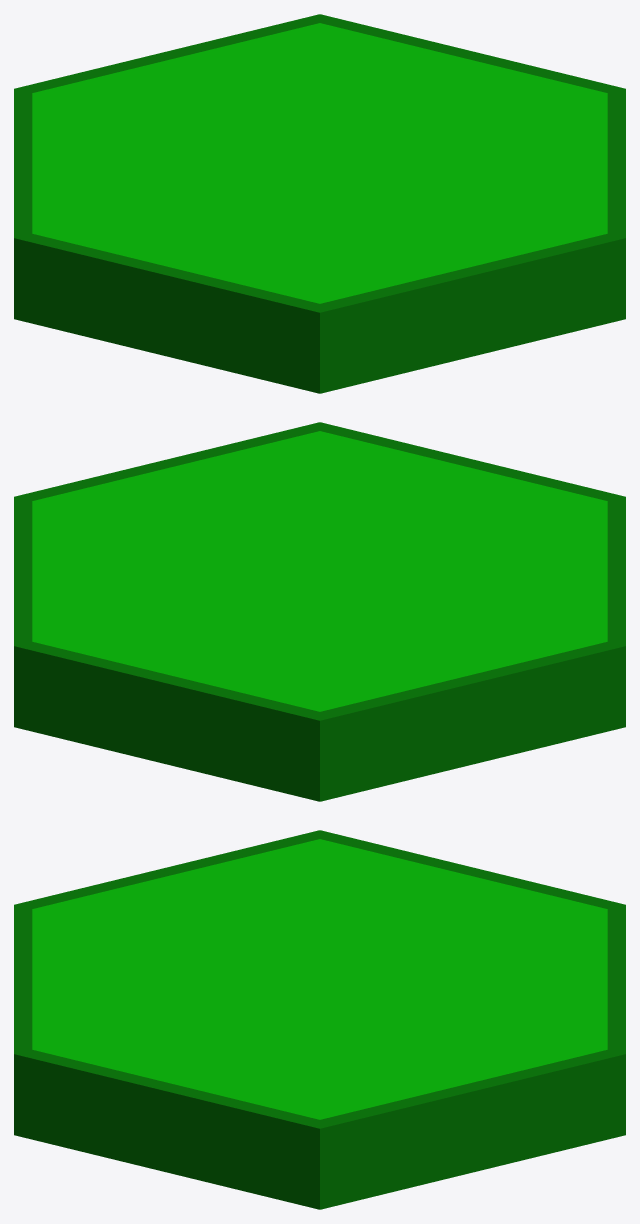
Rendered from honeycomb_tip.fbx.
3 views of the same model, one above another, from view 1: azimuth 30°, elevation 25°; view 2: azimuth 150°, elevation 25°; view 3: azimuth 270°, elevation 25° (orthographic).
Parts seen in each view (by area): view 1: pCylinder1; view 2: pCylinder1; view 3: pCylinder1.
Part boxes in pixels (x1=…): pCylinder1: x1=14, y1=14, x2=625, y2=393; pCylinder1: x1=14, y1=422, x2=625, y2=801; pCylinder1: x1=14, y1=830, x2=625, y2=1209.
Bounding box in the file's own units: 200 × 25.32 × 173.
